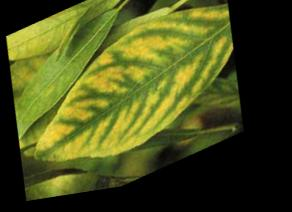Citrus Greening: (11, 0, 265, 196), (0, 0, 135, 72)
